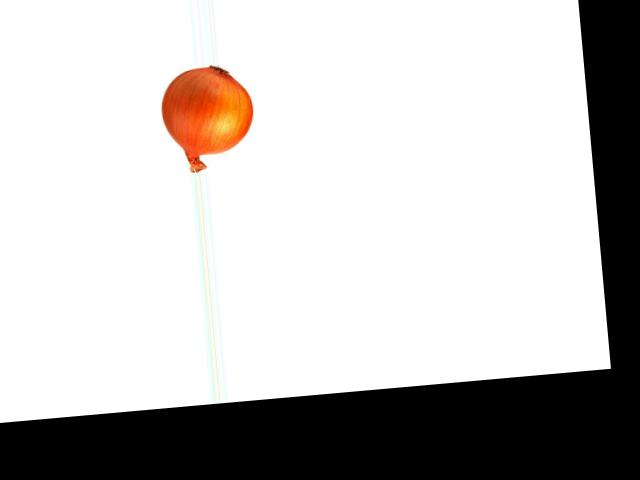onion: (156, 64, 257, 162)
